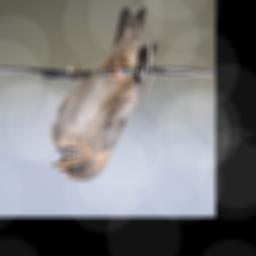Swallow: (49, 6, 158, 183)
